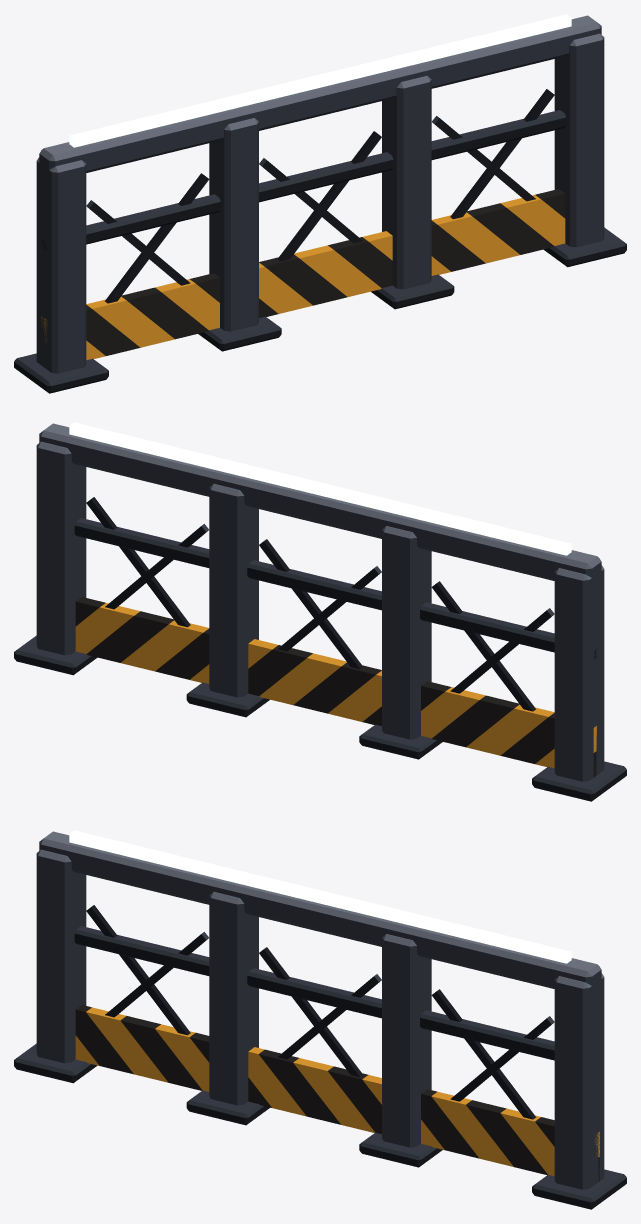
Rendered from Railing.glb.
3 views of the same model, one above another, from view 1: azimuth 30°, elevation 25°; view 2: azimuth 150°, elevation 25°; view 3: azimuth 330°, elevation 25° (orthographic).
Parts seen in each view (by area): view 1: Body, Line_Glow, Mesh; view 2: Body, Line_Glow, Mesh; view 3: Body, Line_Glow, Mesh.
Boxes of the visible parts, x1,y1,x2,y2 form: Body: (14, 15, 626, 393); Line_Glow: (69, 14, 571, 147); Mesh: (86, 89, 554, 303); Body: (14, 423, 626, 801); Line_Glow: (69, 422, 571, 555); Mesh: (86, 497, 554, 711); Body: (14, 831, 626, 1209); Line_Glow: (69, 830, 571, 963); Mesh: (86, 905, 554, 1119).
Bounding box in the file's own units: 8.4 × 3.25 × 0.9.
